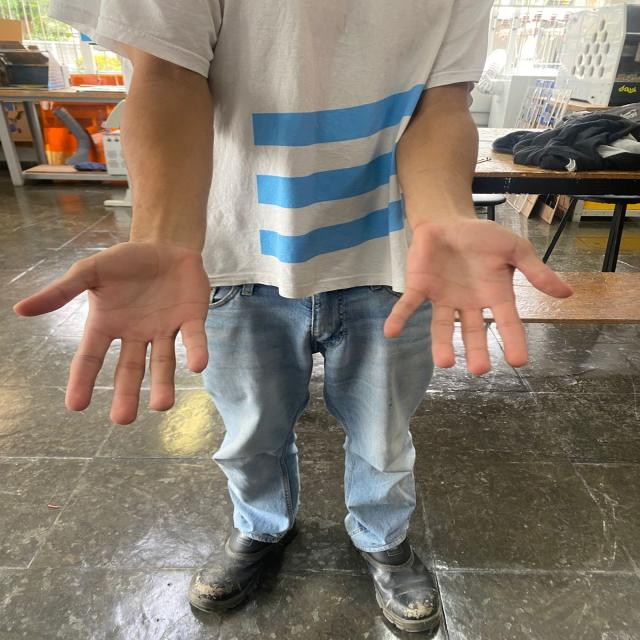BOTA: (176, 510, 306, 614), (346, 506, 448, 634)
SEM LUVA: (10, 238, 219, 432), (374, 212, 581, 379)
